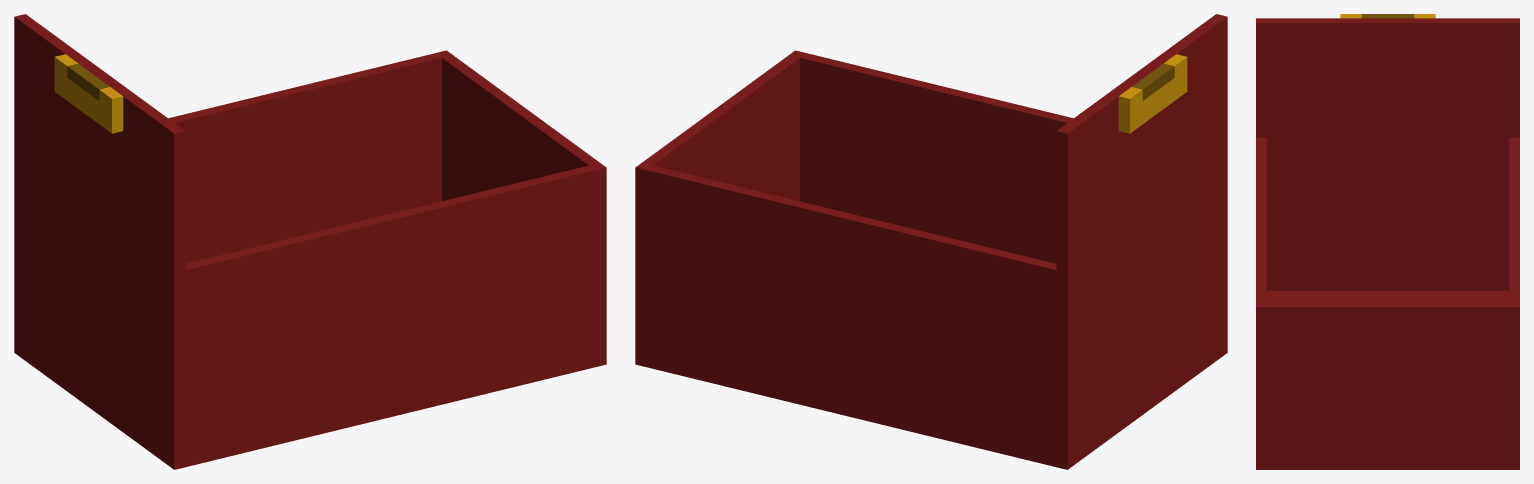
Rendered from CajonGrande3.fbx.
3 views of the same model, side by side, from view 1: azimuth 30°, elevation 25°; view 2: azimuth 150°, elevation 25°; view 3: azimuth 270°, elevation 25° (orthographic). The views are drawn at different scales.
Visible parts, largest first — view 1: Cajon_Grande_3; view 2: Cajon_Grande_3; view 3: Cajon_Grande_3.
Part boxes in pixels (bbox=[...]): Cajon_Grande_3: bbox=[14, 14, 606, 469]; Cajon_Grande_3: bbox=[635, 14, 1227, 469]; Cajon_Grande_3: bbox=[1256, 14, 1519, 469].
Size of the model in its own units: 400 by 290 by 250.
